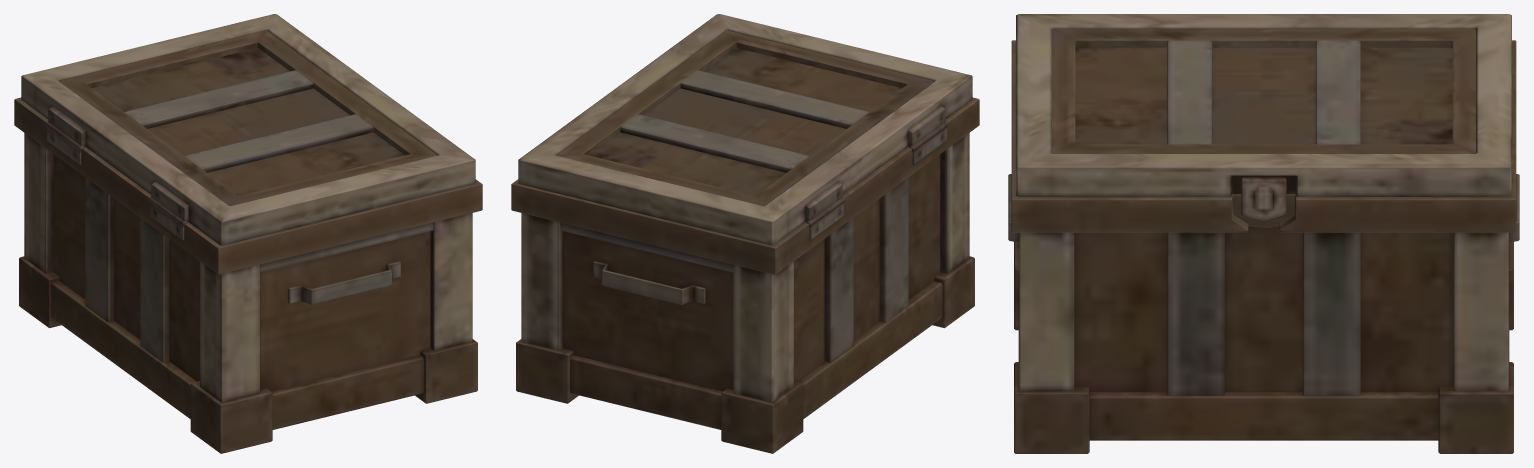
The model's file is SM_ChestCopper_1ab725.glb.
3 renders of one model, left to right at view 1: azimuth 30°, elevation 25°; view 2: azimuth 150°, elevation 25°; view 3: azimuth 270°, elevation 25°, orthographic. The views are drawn at different scales.
Size of the model in its own units: 1.15 by 0.9606 by 1.55.
Materials: 1 (1 with a texture image).
